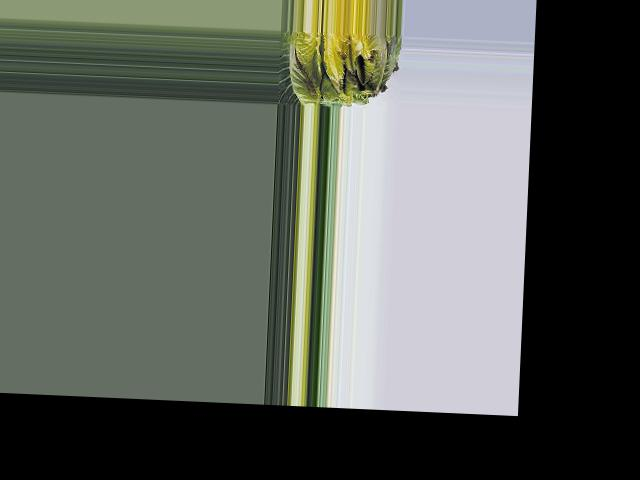lettuce: (277, 29, 397, 107)
